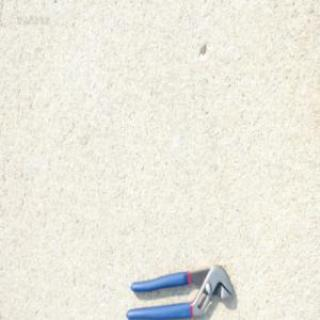Pliertrack_idkeyframe: (126, 263, 233, 313)
